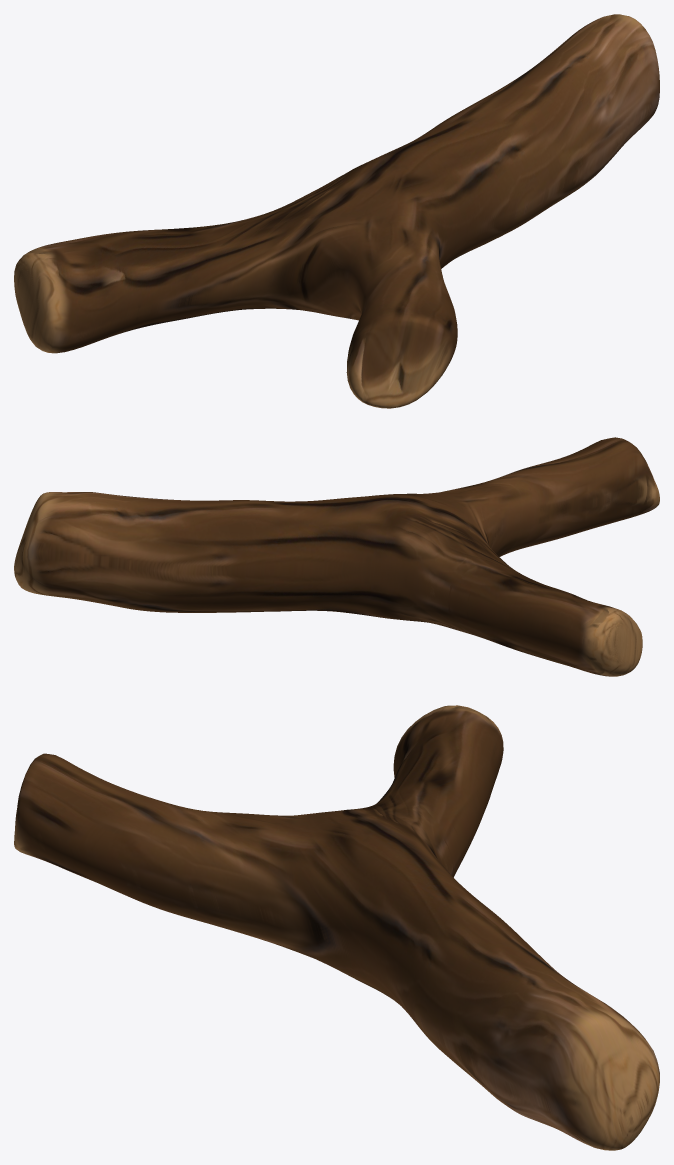
The model's file is slingshot.fbx.
The picture shows the model from 3 angles, top to bottom: view 1: azimuth 30°, elevation 25°; view 2: azimuth 150°, elevation 25°; view 3: azimuth 270°, elevation 25°; orthographic projection. The views are drawn at different scales.
Parts seen in each view (by area): view 1: slingshot; view 2: slingshot; view 3: slingshot.
Boxes of the visible parts, bbox=[...] form: slingshot: bbox=[14, 14, 659, 408]; slingshot: bbox=[14, 437, 659, 676]; slingshot: bbox=[14, 705, 659, 1150].
Size of the model in its own units: 207 by 39.81 by 151.
